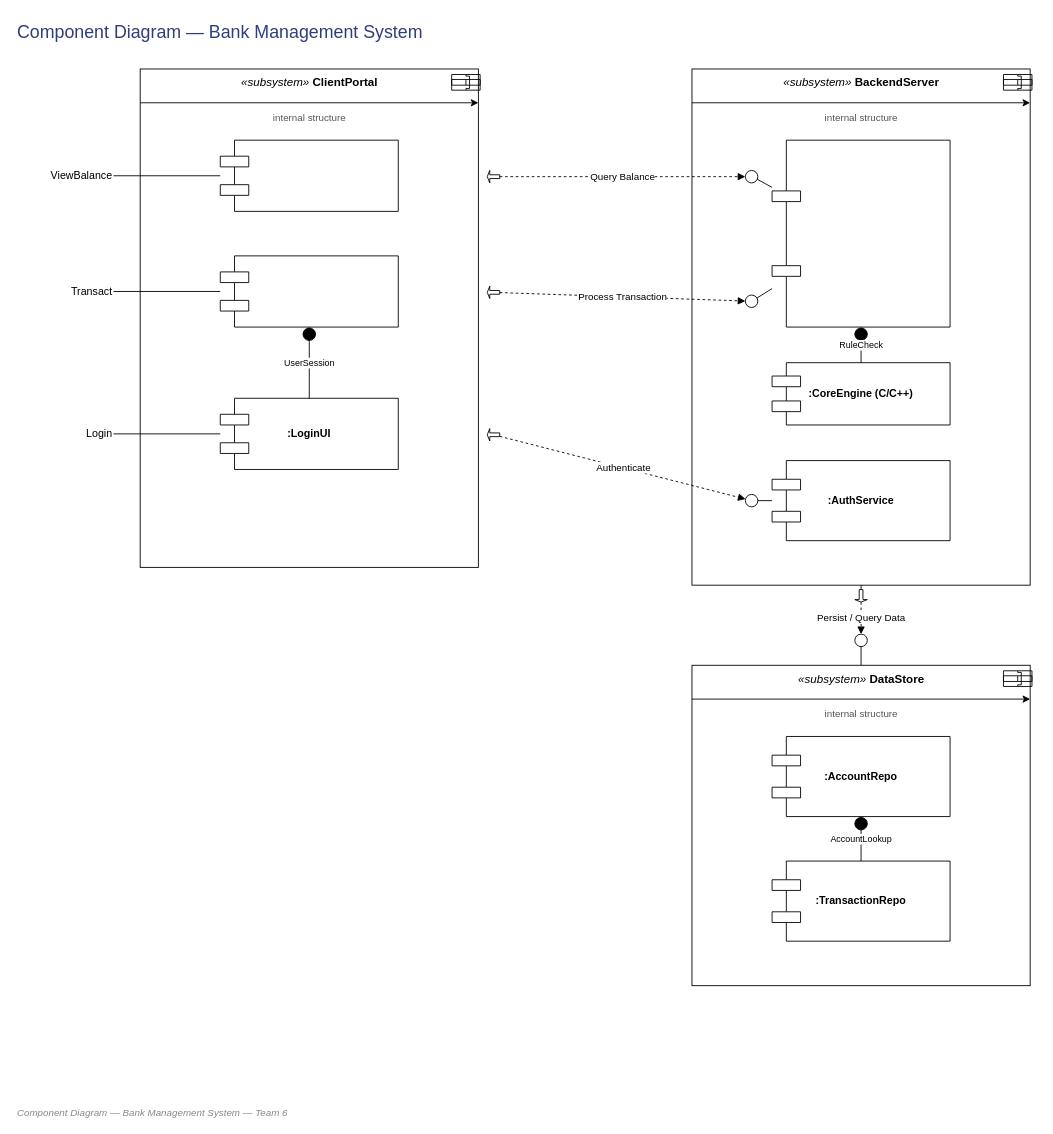
Image size: 1053x1134. Some labels were removed from this diagram. The shapes that lost their labels are listed below. From the top down, each one's centre as x and y in pixels, then its label:
At (308,175): ":DashboardUI".
At (860,233): ":TransactionRouter".
At (308,291): ":TransactionUI".
